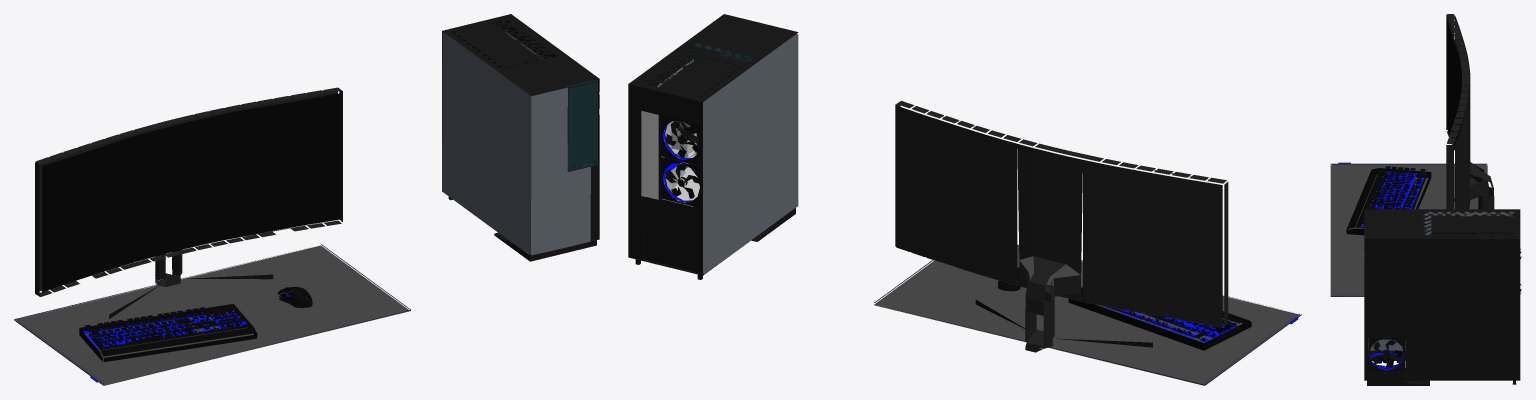
File: gamer_setup_pack_low.glb
The picture shows the model from 3 angles, left to right: view 1: azimuth 30°, elevation 25°; view 2: azimuth 150°, elevation 25°; view 3: azimuth 270°, elevation 25°; orthographic projection. The views are drawn at different scales.
Parts seen in each view (by area): view 1: sm_monitor, sm_pc_low, sm_mousepad_low, sm_keyboard_low, sm_monitor_low, sm_mouse_low; view 2: sm_monitor_low, sm_pc_low, sm_mousepad_low, sm_keyboard_low; view 3: sm_pc_low, sm_mousepad_low, sm_monitor_low, sm_keyboard_low, sm_monitor.
Part boxes in pixels (x1=…): sm_monitor: x1=42, y1=93, x2=340, y2=291; sm_pc_low: x1=442, y1=14, x2=599, y2=261; sm_mousepad_low: x1=14, y1=244, x2=410, y2=385; sm_keyboard_low: x1=79, y1=304, x2=257, y2=361; sm_monitor_low: x1=35, y1=87, x2=342, y2=318; sm_mouse_low: x1=277, y1=286, x2=312, y2=307; sm_monitor_low: x1=895, y1=101, x2=1228, y2=352; sm_pc_low: x1=628, y1=14, x2=798, y2=279; sm_mousepad_low: x1=874, y1=244, x2=1301, y2=385; sm_keyboard_low: x1=1068, y1=287, x2=1251, y2=350; sm_pc_low: x1=1364, y1=209, x2=1521, y2=385; sm_mousepad_low: x1=1330, y1=162, x2=1487, y2=296; sm_monitor_low: x1=1446, y1=14, x2=1494, y2=209; sm_keyboard_low: x1=1346, y1=166, x2=1431, y2=235; sm_monitor: x1=1447, y1=18, x2=1461, y2=150.
Size of the model in its own units: 1.37 by 0.4348 by 0.4963.
